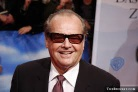male: (44, 9, 88, 72)
